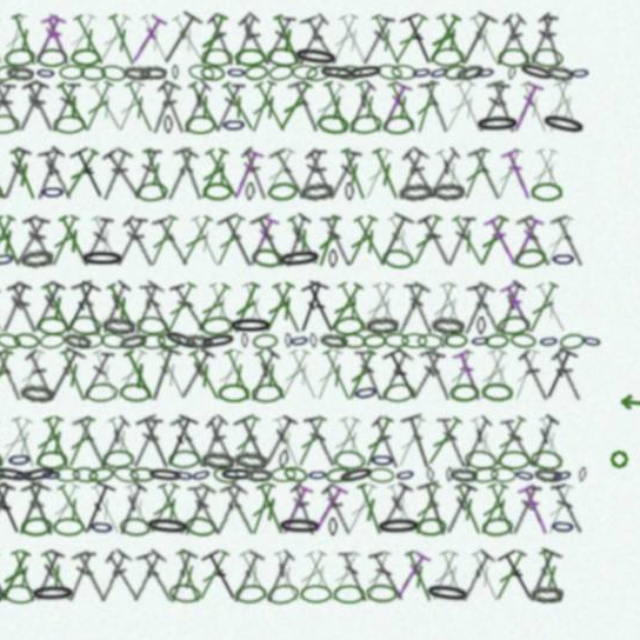chain: (542, 128, 584, 152), (332, 72, 373, 93), (444, 528, 485, 549), (24, 187, 65, 207), (318, 244, 359, 264), (221, 312, 255, 335), (206, 472, 247, 491), (39, 131, 79, 149), (523, 85, 557, 106), (487, 131, 527, 148), (370, 428, 404, 448), (319, 473, 359, 490), (403, 473, 443, 490), (109, 530, 149, 547), (151, 246, 191, 262), (277, 303, 317, 319), (101, 428, 134, 447), (478, 415, 508, 435), (253, 315, 286, 333), (408, 244, 437, 264), (534, 415, 563, 435), (310, 529, 339, 549), (338, 187, 368, 206), (100, 244, 130, 263), (378, 87, 411, 104), (76, 429, 109, 446), (310, 73, 339, 92), (520, 244, 549, 263), (506, 301, 535, 320), (240, 472, 269, 491), (422, 188, 452, 206), (44, 245, 74, 263), (100, 359, 130, 377), (254, 416, 284, 434), (282, 416, 312, 434), (353, 130, 381, 149), (381, 130, 409, 149), (297, 244, 325, 263), (227, 529, 255, 548), (354, 88, 387, 104), (208, 430, 241, 446), (254, 302, 283, 320), (86, 530, 115, 548), (87, 74, 115, 92), (535, 74, 563, 92), (409, 131, 437, 149), (199, 188, 227, 206), (115, 302, 143, 320), (199, 302, 227, 320), (367, 302, 395, 320), (185, 359, 213, 377), (297, 359, 325, 377), (409, 359, 437, 377), (367, 416, 395, 434), (185, 473, 213, 491), (493, 473, 521, 491), (283, 530, 311, 548), (470, 86, 496, 105), (450, 188, 479, 205), (170, 302, 199, 319), (394, 302, 423, 319), (450, 302, 479, 319), (156, 359, 185, 376), (44, 473, 73, 490), (311, 188, 338, 206), (451, 74, 479, 91), (73, 131, 101, 148), (101, 473, 129, 490), (184, 315, 210, 333), (58, 531, 87, 547), (534, 531, 563, 547), (143, 302, 170, 319), (493, 359, 520, 376), (31, 416, 58, 433), (59, 416, 86, 433), (171, 416, 198, 433), (227, 416, 254, 433), (395, 530, 422, 547), (383, 358, 407, 377), (37, 89, 69, 103), (129, 132, 157, 148), (507, 417, 535, 433), (115, 75, 142, 91), (255, 75, 282, 91), (283, 75, 310, 91), (507, 75, 534, 91), (77, 87, 101, 105), (343, 87, 367, 105), (241, 132, 268, 148), (59, 189, 86, 205), (535, 189, 562, 205), (79, 315, 103, 333), (269, 360, 296, 376), (115, 417, 142, 433), (129, 474, 156, 490), (437, 474, 464, 490), (339, 531, 366, 547), (367, 531, 394, 547), (56, 87, 81, 104), (137, 315, 162, 332), (144, 75, 170, 91), (256, 189, 282, 205), (466, 360, 492, 376), (270, 431, 302, 444), (75, 245, 98, 263), (159, 473, 182, 491), (243, 87, 267, 104), (311, 87, 335, 104), (403, 87, 427, 104), (158, 429, 182, 446), (179, 429, 203, 446), (547, 88, 572, 104), (460, 87, 483, 104), (89, 416, 112, 433), (324, 429, 347, 446), (551, 473, 574, 490), (264, 430, 288, 446), (355, 316, 380, 331), (537, 430, 562, 445), (62, 302, 84, 319), (169, 88, 192, 104), (559, 316, 582, 332), (360, 430, 383, 446), (447, 87, 468, 104), (272, 132, 294, 148), (118, 189, 140, 205), (552, 246, 574, 262), (34, 303, 56, 319), (398, 417, 420, 433), (34, 531, 56, 547), (416, 88, 439, 103), (95, 316, 118, 331), (117, 316, 140, 331), (150, 316, 173, 331), (169, 316, 192, 331), (373, 316, 396, 331), (517, 316, 540, 331), (145, 430, 168, 445), (485, 430, 508, 445), (245, 429, 265, 446), (89, 89, 113, 103), (188, 89, 212, 103), (241, 317, 265, 331), (41, 431, 65, 445), (291, 88, 313, 103), (217, 316, 239, 331), (298, 317, 321, 331), (438, 317, 461, 331), (577, 316, 597, 332), (94, 430, 114, 446), (230, 430, 250, 446), (520, 430, 540, 446), (552, 430, 572, 446), (202, 89, 226, 102), (291, 431, 315, 444), (466, 431, 490, 444), (152, 89, 174, 103), (254, 89, 276, 103), (370, 89, 392, 103), (42, 317, 64, 331), (203, 317, 225, 331), (397, 431, 419, 445), (392, 317, 413, 331), (496, 317, 517, 331), (134, 89, 156, 102), (332, 89, 354, 102), (60, 317, 82, 330), (410, 317, 432, 330), (425, 317, 447, 330), (55, 431, 77, 444), (66, 431, 88, 444), (130, 431, 152, 444), (194, 431, 216, 444), (314, 431, 336, 444), (501, 431, 523, 444), (433, 88, 452, 103), (487, 88, 506, 103), (329, 316, 348, 331), (483, 316, 502, 331), (419, 430, 438, 445), (461, 317, 482, 330), (541, 317, 560, 331), (114, 89, 132, 103), (568, 89, 586, 103), (276, 89, 294, 102), (119, 431, 137, 444), (345, 431, 363, 444), (320, 416, 330, 433), (292, 189, 301, 205), (223, 132, 231, 148), (377, 189, 385, 205), (363, 246, 371, 262), (489, 303, 497, 319), (363, 474, 371, 490), (515, 89, 523, 103), (446, 431, 454, 444), (575, 431, 583, 444), (347, 317, 354, 330), (458, 317, 465, 330), (230, 89, 236, 102), (289, 317, 295, 330), (326, 317, 332, 330), (463, 431, 469, 444)
double: (217, 43, 257, 92), (119, 328, 158, 378), (470, 43, 508, 93), (268, 214, 306, 264), (22, 385, 60, 435), (254, 499, 292, 548), (506, 499, 544, 548), (296, 214, 333, 264), (400, 214, 437, 264), (22, 271, 59, 321), (282, 385, 319, 435), (142, 157, 179, 206), (134, 271, 171, 320), (408, 328, 445, 377), (199, 385, 235, 435), (101, 442, 137, 492), (527, 499, 563, 549), (442, 386, 480, 433), (338, 44, 375, 92), (212, 215, 249, 263), (30, 386, 67, 434), (470, 500, 507, 548), (339, 271, 375, 320), (541, 328, 577, 377), (93, 442, 128, 492), (170, 159, 208, 205), (414, 44, 451, 91), (316, 101, 353, 148), (311, 158, 347, 206), (381, 215, 417, 263), (415, 272, 451, 320), (401, 329, 437, 377), (129, 443, 165, 491), (233, 443, 269, 491), (59, 500, 95, 548), (191, 500, 227, 548), (199, 500, 235, 548), (423, 43, 458, 92), (219, 385, 254, 434), (73, 442, 108, 491), (149, 442, 184, 491), (344, 102, 381, 148), (246, 273, 283, 319), (78, 387, 115, 433), (144, 271, 178, 321), (191, 44, 227, 91), (227, 44, 263, 91), (443, 44, 479, 91), (157, 101, 193, 148), (269, 101, 305, 148), (135, 158, 171, 205), (255, 158, 291, 205), (451, 158, 487, 205), (359, 272, 395, 319), (345, 443, 381, 490), (415, 500, 451, 547), (51, 44, 86, 92), (143, 44, 178, 92), (297, 101, 332, 149), (115, 158, 150, 206), (219, 158, 254, 206), (233, 215, 268, 263), (521, 215, 556, 263), (171, 272, 206, 320), (471, 272, 506, 320), (241, 329, 276, 377), (297, 329, 332, 377), (227, 386, 262, 434), (261, 443, 296, 491), (269, 443, 304, 491), (143, 500, 178, 548), (163, 500, 198, 548), (275, 500, 310, 548), (163, 44, 198, 91), (129, 101, 164, 148), (241, 101, 276, 148), (31, 158, 66, 205), (325, 215, 360, 262), (465, 215, 500, 262), (233, 329, 268, 376), (51, 500, 86, 547), (32, 44, 66, 92), (368, 44, 402, 92), (52, 158, 86, 206), (164, 158, 198, 206), (416, 158, 450, 206), (374, 215, 408, 263), (550, 215, 584, 263), (32, 272, 66, 320), (52, 272, 86, 320), (116, 272, 150, 320), (220, 272, 254, 320), (480, 272, 514, 320), (528, 272, 562, 320), (186, 329, 220, 377), (144, 386, 178, 434), (360, 386, 394, 434), (340, 500, 374, 548), (360, 500, 394, 548), (46, 100, 79, 149), (332, 271, 365, 320), (206, 328, 239, 377), (424, 385, 457, 434), (438, 442, 471, 491), (458, 101, 492, 148), (304, 158, 338, 205), (66, 215, 100, 262), (130, 215, 164, 262), (438, 215, 472, 262), (494, 215, 528, 262), (388, 272, 422, 319), (536, 272, 570, 319), (178, 329, 212, 376), (304, 386, 338, 433), (500, 386, 534, 433), (206, 443, 240, 490), (374, 443, 408, 490), (402, 443, 436, 490), (248, 500, 282, 547), (284, 500, 318, 547), (500, 500, 534, 547), (60, 44, 93, 92), (206, 101, 239, 149), (410, 101, 443, 149), (480, 158, 513, 206), (102, 215, 135, 263), (122, 215, 155, 263), (486, 215, 519, 263), (192, 272, 225, 320), (312, 272, 345, 320), (486, 329, 519, 377), (480, 386, 513, 434), (46, 443, 79, 491), (458, 443, 491, 491), (171, 501, 206, 546), (327, 100, 359, 149), (75, 328, 107, 377), (439, 328, 471, 377), (221, 499, 253, 548), (24, 44, 57, 91), (108, 44, 141, 91), (136, 44, 169, 91), (200, 44, 233, 91), (452, 44, 485, 91), (480, 44, 513, 91), (74, 101, 107, 148), (102, 101, 135, 148), (536, 158, 569, 205), (46, 215, 79, 262), (158, 215, 191, 262), (410, 215, 443, 262), (430, 215, 463, 262), (108, 272, 141, 319), (304, 272, 337, 319), (368, 272, 401, 319), (508, 272, 541, 319), (214, 329, 247, 376), (318, 329, 351, 376), (326, 329, 359, 376), (108, 386, 141, 433), (172, 386, 205, 433), (332, 386, 365, 433), (122, 443, 155, 490), (158, 443, 191, 490), (410, 443, 443, 490), (80, 500, 113, 547), (116, 500, 149, 547), (332, 500, 365, 547), (249, 44, 281, 92), (397, 44, 429, 92), (95, 101, 127, 149), (151, 101, 183, 149), (179, 101, 211, 149), (187, 101, 219, 149), (403, 101, 435, 149), (467, 101, 499, 149), (515, 101, 547, 149), (249, 158, 281, 206), (277, 158, 309, 206), (389, 158, 421, 206), (529, 158, 561, 206), (39, 215, 71, 263), (75, 215, 107, 263), (243, 215, 275, 263), (263, 215, 295, 263), (515, 215, 547, 263), (543, 215, 575, 263), (61, 272, 93, 320), (89, 272, 121, 320), (397, 272, 429, 320), (39, 329, 71, 377), (271, 329, 303, 377), (355, 329, 387, 377), (375, 329, 407, 377), (61, 386, 93, 434), (389, 386, 421, 434), (417, 386, 449, 434), (319, 443, 351, 491), (487, 443, 519, 491), (523, 443, 555, 491), (543, 443, 575, 491), (445, 500, 477, 548), (481, 500, 513, 548), (424, 159, 458, 204), (439, 100, 470, 149), (228, 273, 261, 319), (173, 44, 204, 92), (313, 44, 344, 92), (361, 44, 392, 92), (383, 101, 414, 149), (523, 101, 554, 149), (551, 101, 582, 149), (89, 158, 120, 206), (397, 158, 428, 206), (473, 158, 504, 206), (501, 158, 532, 206), (509, 158, 540, 206), (207, 215, 238, 263), (291, 215, 322, 263), (81, 272, 112, 320), (277, 272, 308, 320), (67, 329, 98, 377), (95, 329, 126, 377), (159, 329, 190, 377), (263, 329, 294, 377), (495, 329, 526, 377), (53, 386, 84, 434), (137, 386, 168, 434), (313, 386, 344, 434), (369, 386, 400, 434), (39, 443, 70, 491), (187, 443, 218, 491), (215, 443, 246, 491), (299, 443, 330, 491), (431, 443, 462, 491), (467, 443, 498, 491), (495, 443, 526, 491), (109, 500, 140, 548), (313, 500, 344, 548), (425, 500, 456, 548), (38, 102, 71, 147), (444, 159, 477, 204), (94, 216, 127, 261), (285, 45, 317, 91), (333, 45, 365, 91), (501, 45, 533, 91), (291, 330, 323, 376), (431, 330, 463, 376), (509, 387, 541, 433), (397, 501, 429, 547), (496, 100, 526, 149), (230, 157, 260, 206), (109, 158, 140, 205), (165, 272, 196, 319), (179, 443, 210, 490), (33, 500, 64, 547), (90, 44, 120, 92), (118, 44, 148, 92), (292, 101, 322, 149), (82, 158, 112, 206), (370, 158, 400, 206), (258, 272, 288, 320), (286, 272, 316, 320), (446, 272, 476, 320), (454, 272, 484, 320), (132, 329, 162, 377), (348, 329, 378, 377), (460, 329, 490, 377), (468, 329, 498, 377), (516, 329, 546, 377), (90, 386, 120, 434), (118, 386, 148, 434), (278, 386, 308, 434), (538, 386, 568, 434), (68, 443, 98, 491), (292, 443, 322, 491), (384, 443, 414, 491), (230, 500, 260, 548), (390, 500, 420, 548), (454, 500, 484, 548), (389, 45, 420, 91), (509, 45, 540, 91), (361, 159, 392, 205), (187, 216, 218, 262), (151, 330, 182, 376), (523, 330, 554, 376), (551, 330, 582, 376), (165, 387, 196, 433), (257, 387, 288, 433), (243, 444, 274, 490), (502, 272, 532, 319), (530, 386, 560, 433), (356, 101, 385, 149), (26, 158, 55, 206), (202, 158, 231, 206), (90, 500, 119, 548), (306, 45, 336, 91), (68, 102, 98, 148), (488, 102, 518, 148), (62, 159, 92, 205), (342, 159, 372, 205), (180, 216, 210, 262), (202, 273, 232, 319), (104, 330, 134, 376), (474, 387, 504, 433), (356, 444, 386, 490), (306, 501, 336, 547), (258, 44, 287, 91), (356, 215, 385, 262), (342, 386, 371, 433), (552, 443, 581, 490), (545, 101, 573, 149), (349, 215, 377, 263), (27, 500, 55, 548), (539, 500, 567, 548), (216, 102, 245, 148), (236, 102, 265, 148), (264, 102, 293, 148), (376, 102, 405, 148), (152, 216, 181, 262), (194, 387, 223, 433), (398, 387, 427, 433), (516, 444, 545, 490), (531, 44, 559, 91), (125, 101, 153, 148), (287, 158, 315, 205), (321, 215, 349, 262), (461, 215, 489, 262), (251, 386, 279, 433), (455, 386, 483, 433), (371, 500, 399, 547), (83, 44, 110, 92), (433, 101, 460, 149), (279, 44, 306, 91), (195, 158, 222, 205), (335, 158, 362, 205), (427, 272, 454, 319), (49, 329, 76, 376), (385, 329, 412, 376), (329, 443, 356, 490), (139, 500, 166, 547), (540, 44, 565, 91)
noise: (0, 535, 28, 552), (609, 369, 639, 383), (601, 415, 619, 433)
